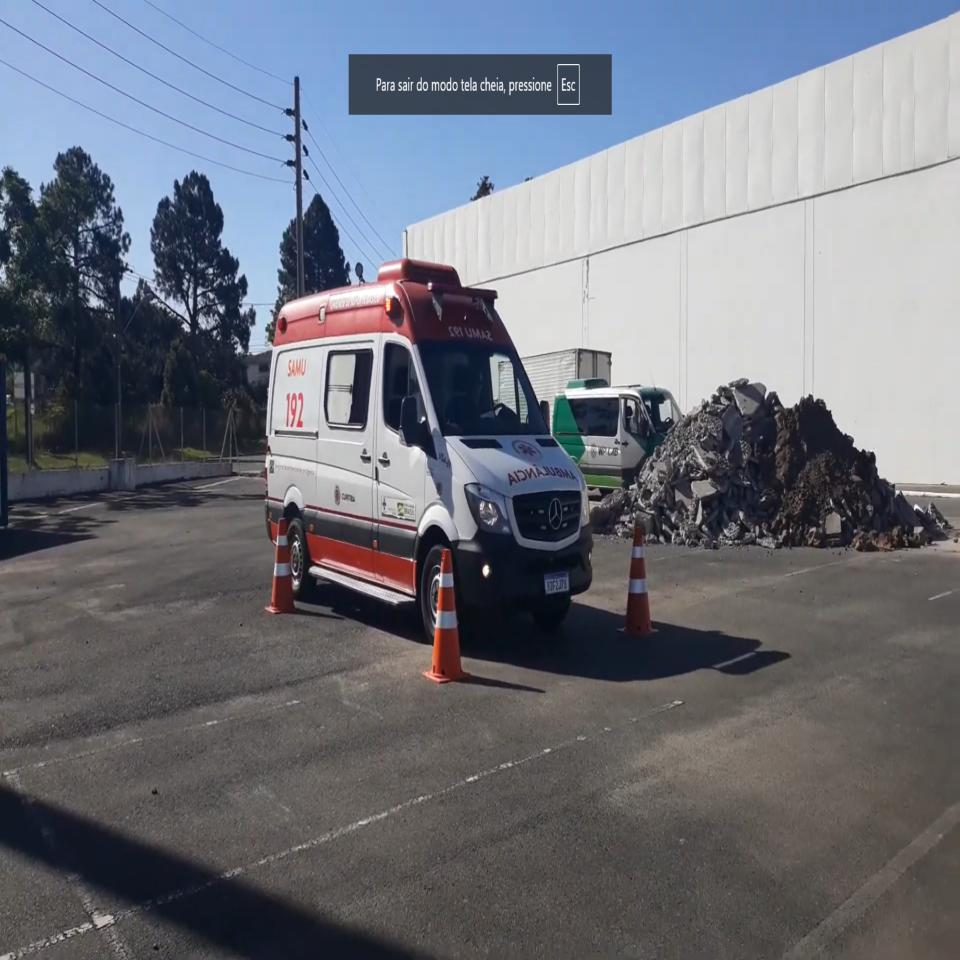bombeiro: (260, 252, 594, 637)
